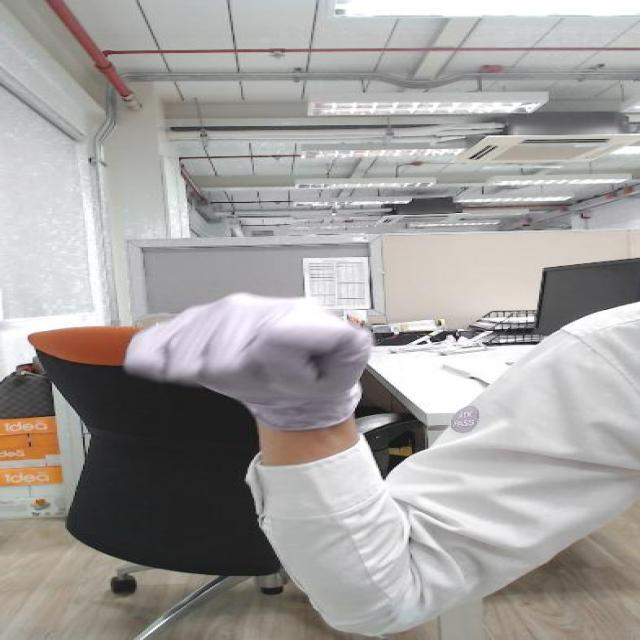with_gloves: (106, 267, 390, 418)
